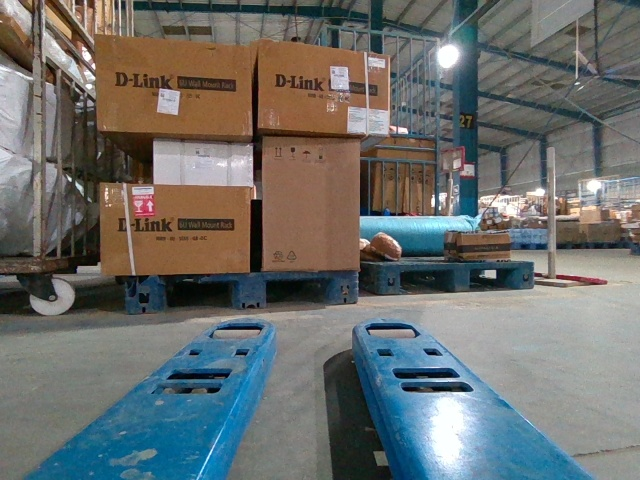block: (120, 275, 165, 312), (231, 274, 266, 310), (327, 272, 359, 306), (371, 264, 402, 295), (507, 262, 535, 285), (449, 264, 472, 291)
front: (126, 269, 358, 312), (367, 262, 534, 294)
hole pallet: (161, 279, 233, 310), (268, 277, 324, 304), (401, 268, 449, 292), (471, 269, 513, 289)
